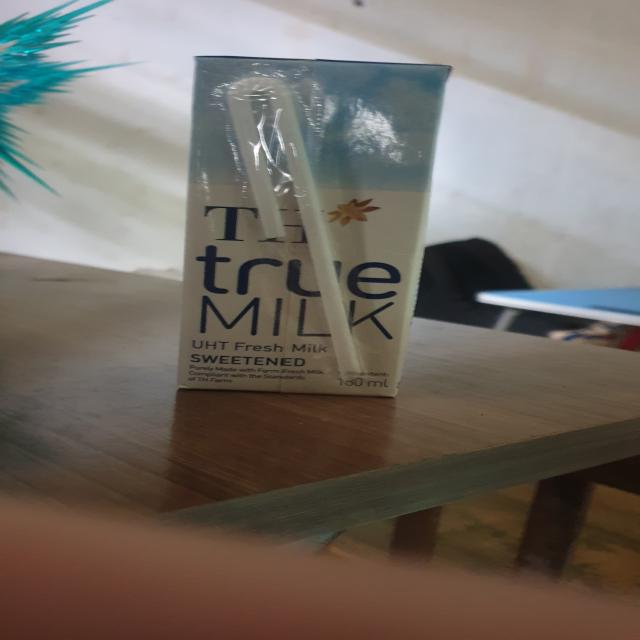TH: (172, 56, 445, 400)
